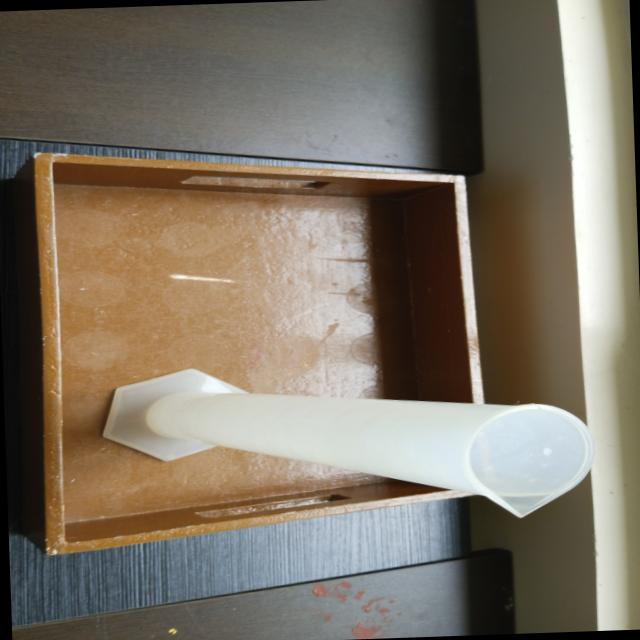graduated_cylinder: (91, 346, 602, 544)
